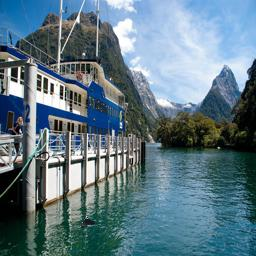Crow: (79, 216, 95, 229)
